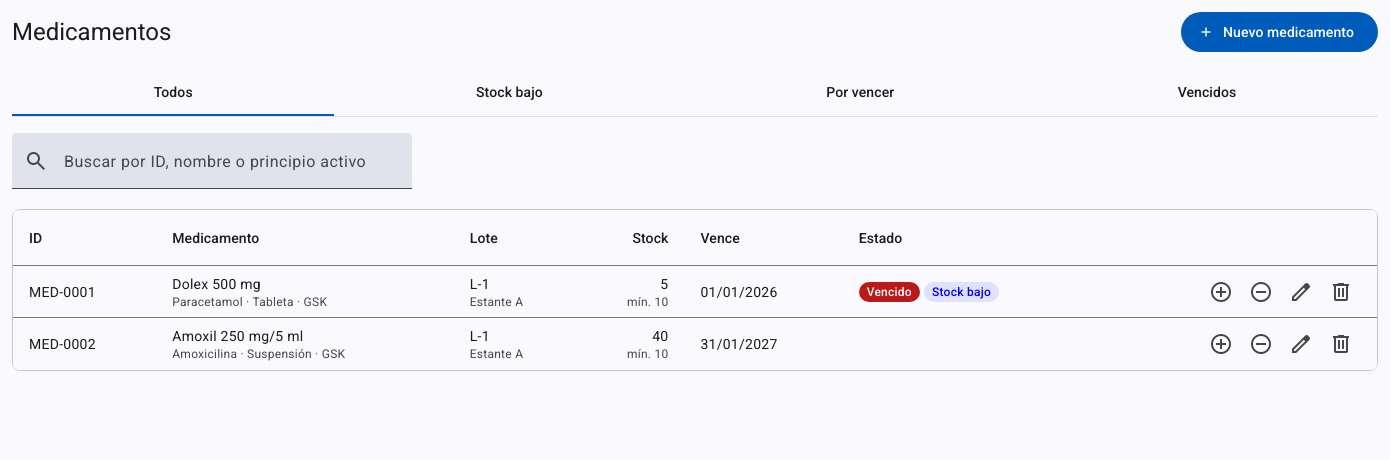
Test case: MedicamentosListaComponent › si el servicio de medicamentos cae, avisa sin bloquear y conserva lo ya cargado
The width and height of the screenshot is (1390, 460).
Type "amo" into the search field labelled "Buscar por ID, nombre o principio activo".
click(230, 169); type("amo")  # box [64,157,396,181]
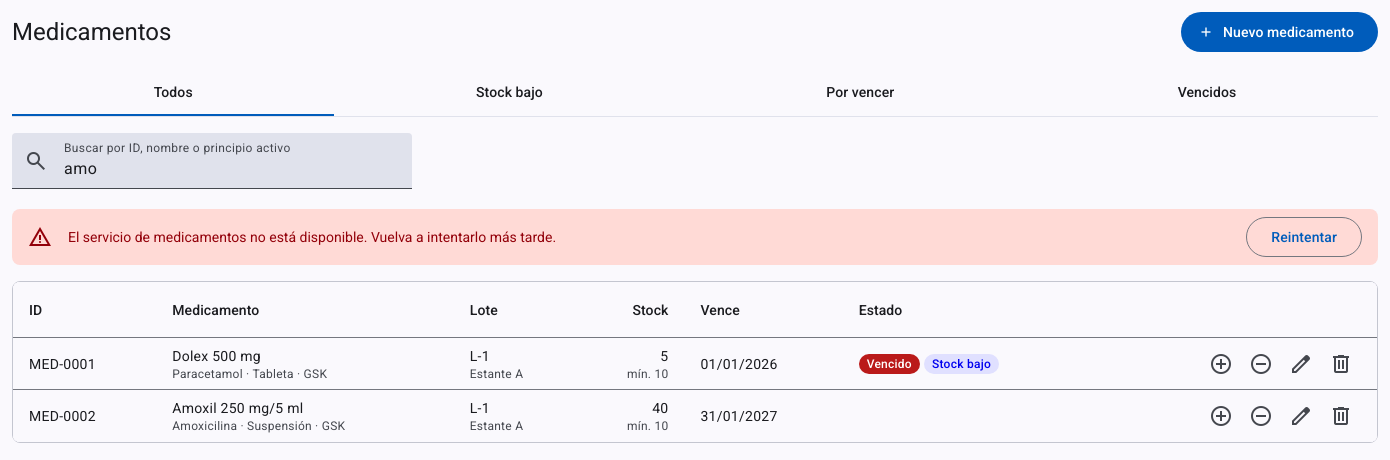
Expected: the message with class "aviso-servicio" shows "El servicio de medicamentos no está disponible.", [68,229,556,245]
Click the tab "Vencidos".
click(1207, 92)  # box [1036,68,1378,116]
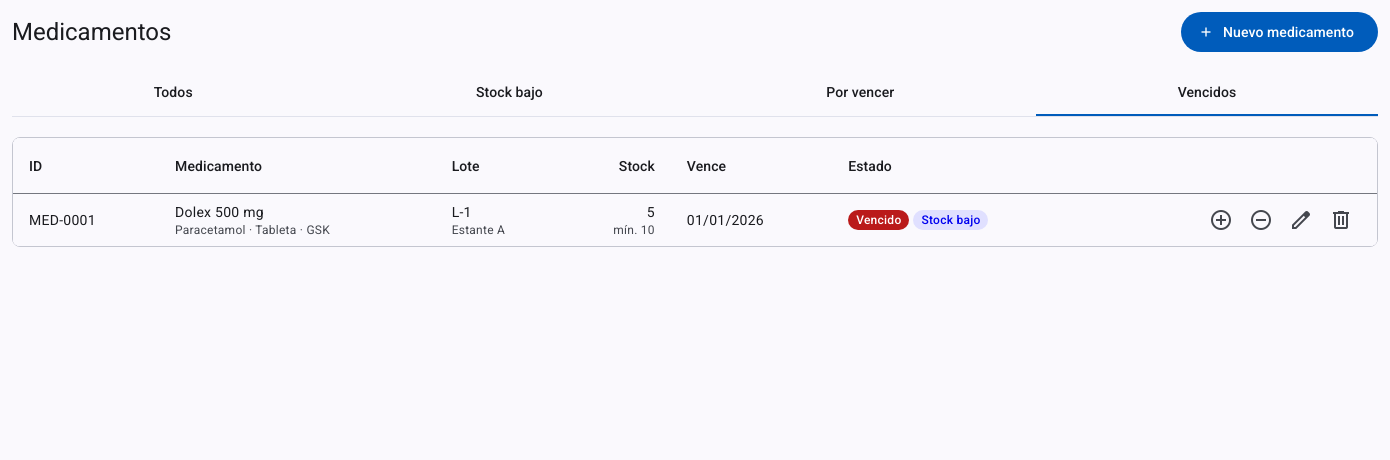
Expected: the message with class "aviso-servicio" is gone
Click the tab "Todos".
click(173, 92)  # box [12,68,334,116]
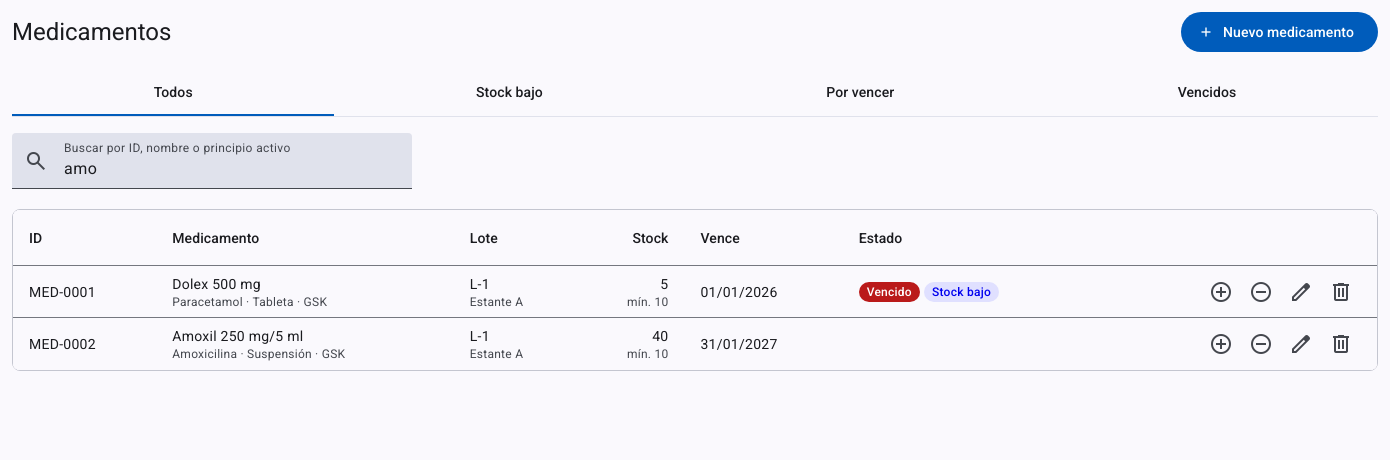
Click the tab "Vencidos".
click(1207, 92)  # box [1036,68,1378,116]
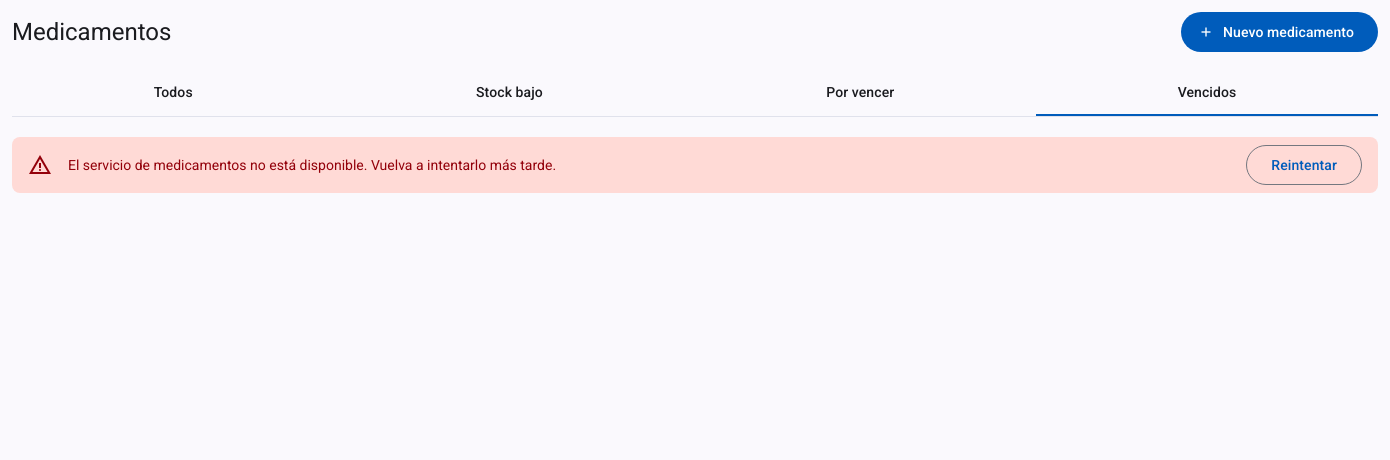
Expected: the message with class "aviso-servicio" is shown, [12,137,1378,193]
Click the button "Reintentar".
click(1304, 165)  # box [1246,145,1362,185]
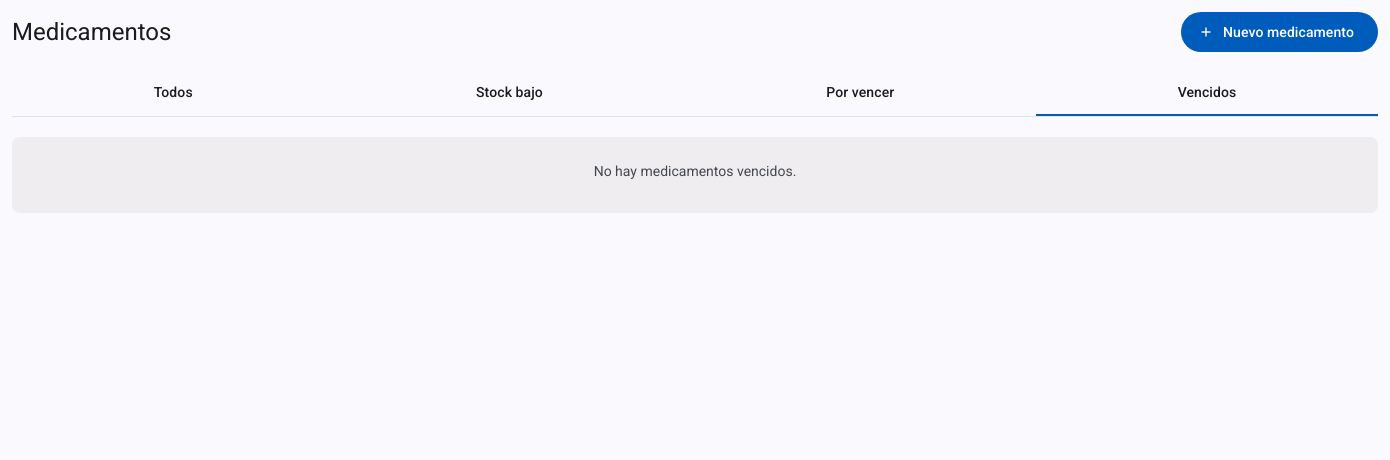
Expected: the message with class "aviso-servicio" is gone
